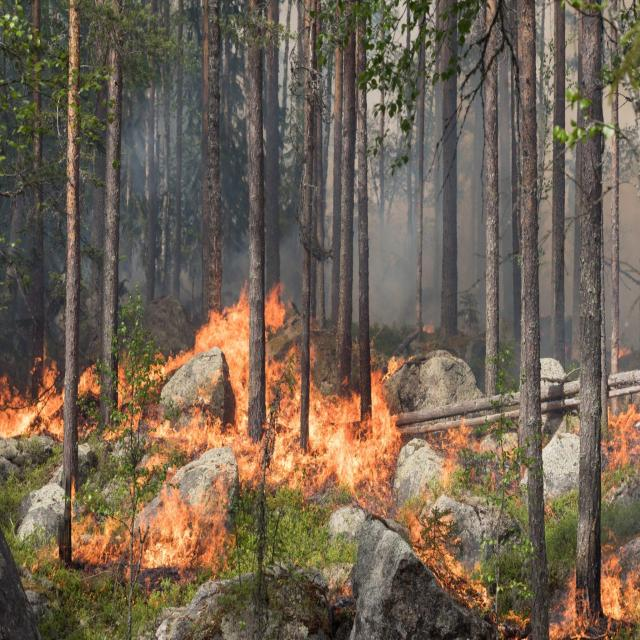fire: (1, 364, 405, 566), (200, 282, 279, 365), (571, 573, 640, 640)
smoke: (375, 161, 450, 330)
